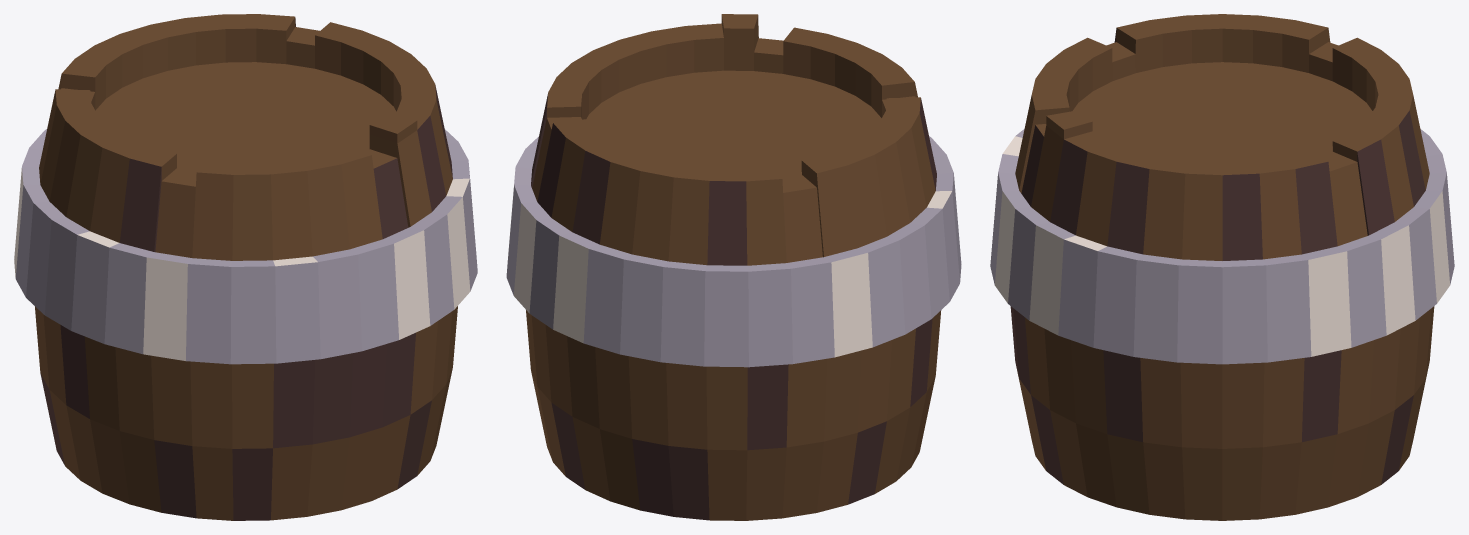
File: barriles.fbx
3 views of the same model, side by side, from view 1: azimuth 30°, elevation 25°; view 2: azimuth 150°, elevation 25°; view 3: azimuth 270°, elevation 25° (orthographic).
Visible parts, largest first — view 1: Cylinder; view 2: Cylinder; view 3: Cylinder.
Part boxes in pixels (x1,y1,x2,y2): Cylinder: (14, 14, 477, 520); Cylinder: (506, 14, 961, 520); Cylinder: (990, 14, 1454, 520).
Bounding box in the file's own units: 243 × 206 × 243.
Materials: 1 (1 with a texture image).
